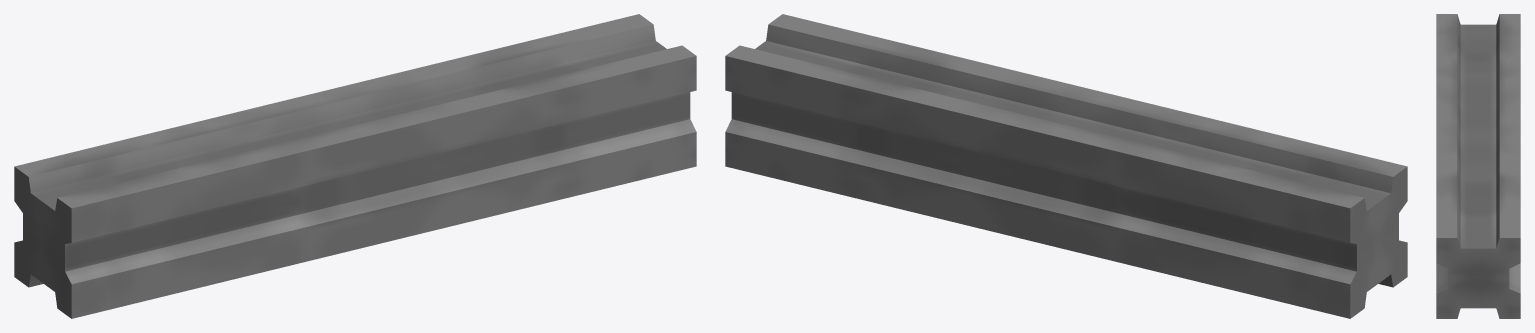
Rendered from metal pillar.fbx.
The picture shows the model from 3 angles, left to right: view 1: azimuth 30°, elevation 25°; view 2: azimuth 150°, elevation 25°; view 3: azimuth 270°, elevation 25°; orthographic projection. The views are drawn at different scales.
Visible parts, largest first — view 1: Cube; view 2: Cube; view 3: Cube.
Part boxes in pixels (left/top/right/bottom): Cube: left=14, top=14, right=696, bottom=318; Cube: left=725, top=14, right=1407, bottom=318; Cube: left=1436, top=14, right=1520, bottom=318.
Bounding box in the file's own units: 1263 × 200 × 213.
Materials: 1 (1 with a texture image).
